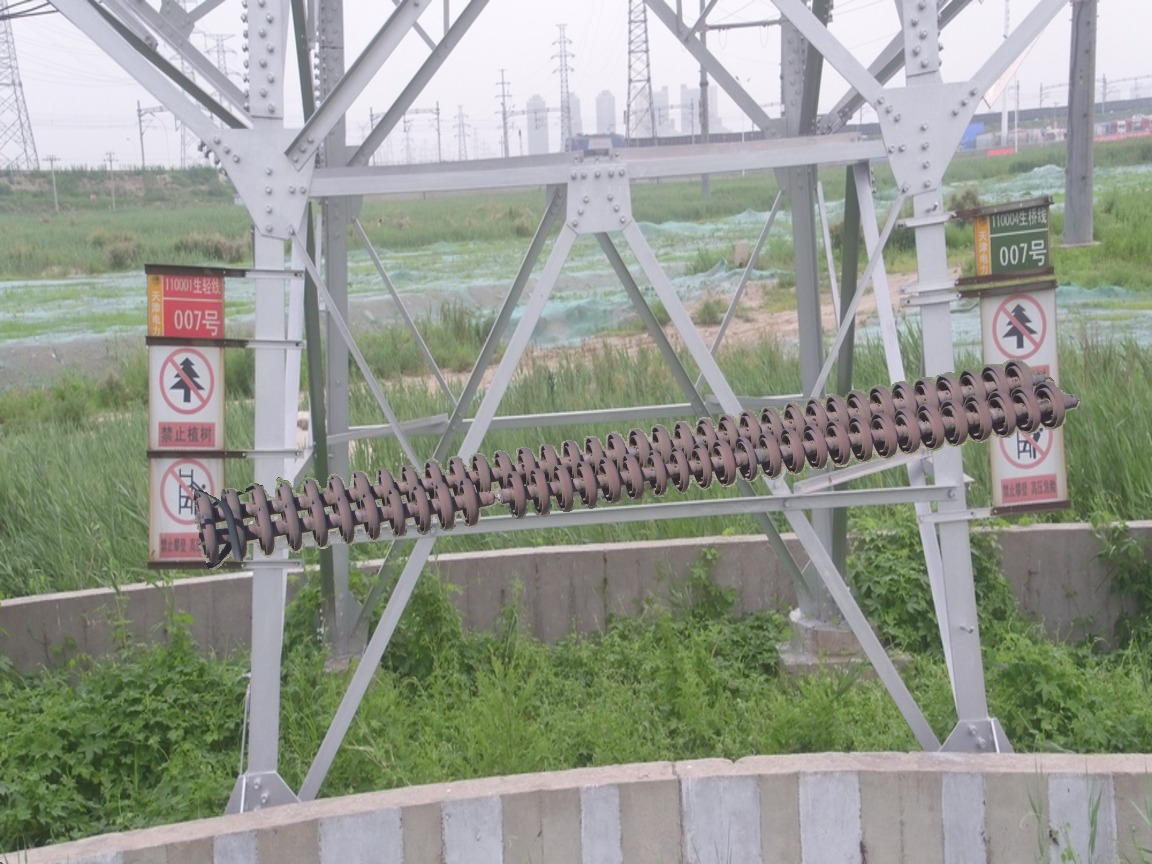defect: (456, 471, 534, 526)
